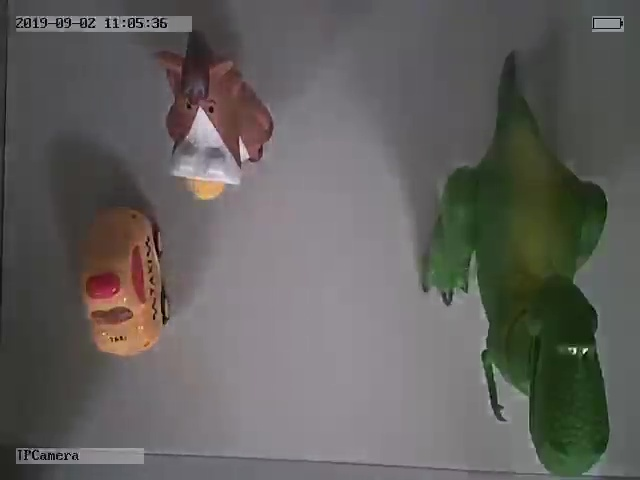car: (80, 203, 171, 359)
horse: (156, 34, 273, 198)
rex: (422, 69, 609, 477)
